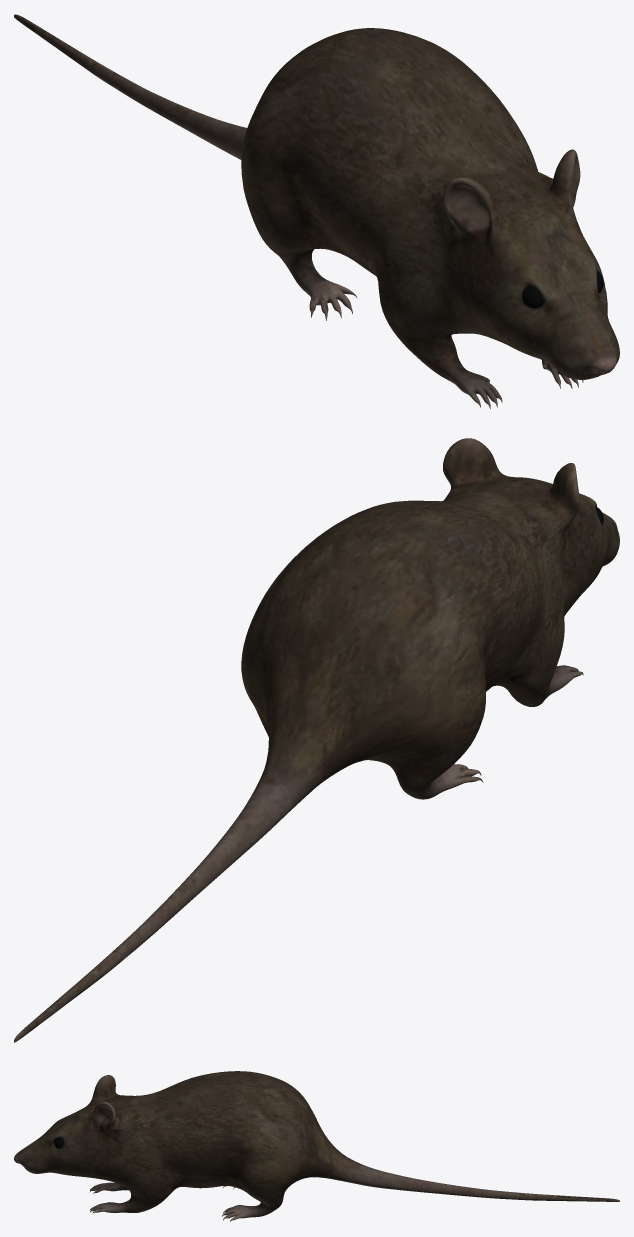
The model's file is street_rat.glb.
3 views of the same model, one above another, from view 1: azimuth 30°, elevation 25°; view 2: azimuth 150°, elevation 25°; view 3: azimuth 270°, elevation 25° (orthographic). The views are drawn at different scales.
Visible parts, largest first — view 1: street_rat; view 2: street_rat; view 3: street_rat.
Boxes of the visible parts, x1,y1,x2,y2 form: street_rat: (14,14,619,408); street_rat: (14,438,619,1042); street_rat: (14,1071,619,1221).
Size of the model in its own units: 0.032 by 0.0339 by 0.1483.
Materials: 1 (1 with a texture image).
